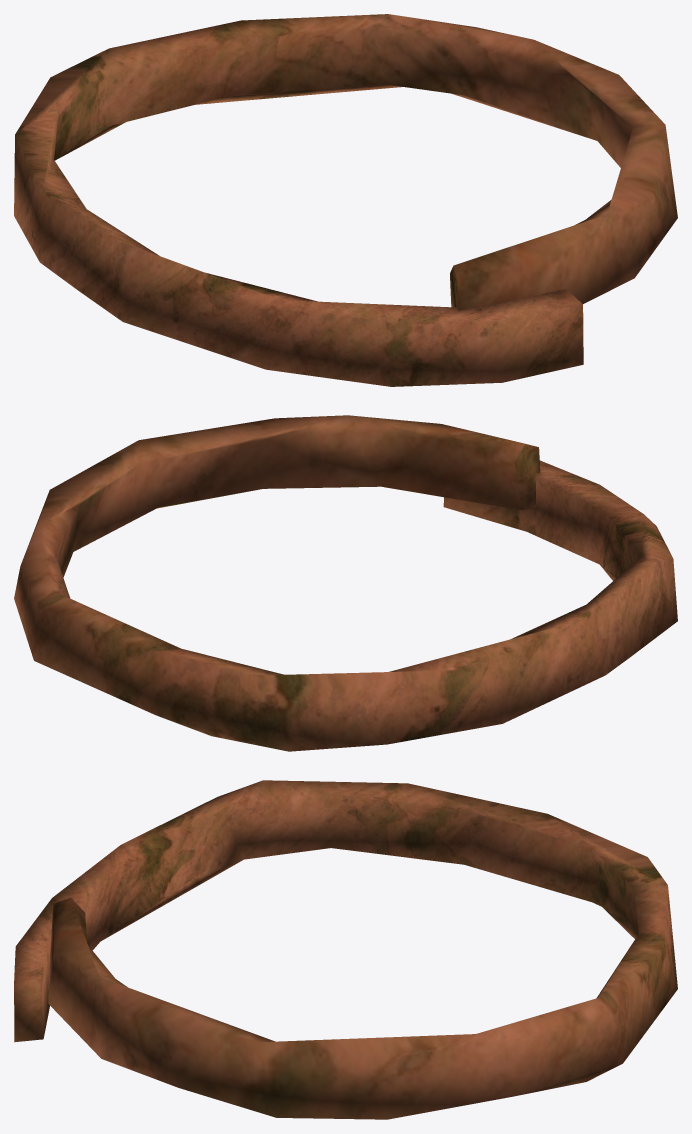
File: BézierCurve.fbx
3 renders of one model, top to bottom at view 1: azimuth 30°, elevation 25°; view 2: azimuth 150°, elevation 25°; view 3: azimuth 270°, elevation 25°, orthographic. The views are drawn at different scales.
Parts seen in each view (by area): view 1: BézierCurve; view 2: BézierCurve; view 3: BézierCurve.
Part boxes in pixels (left/top/right/bottom): BézierCurve: left=14, top=14, right=677, bottom=386; BézierCurve: left=14, top=415, right=677, bottom=751; BézierCurve: left=14, top=780, right=677, bottom=1119.
Bounding box in the file's own units: 5.13 × 0.9394 × 5.35.
Materials: 1 (1 with a texture image).
